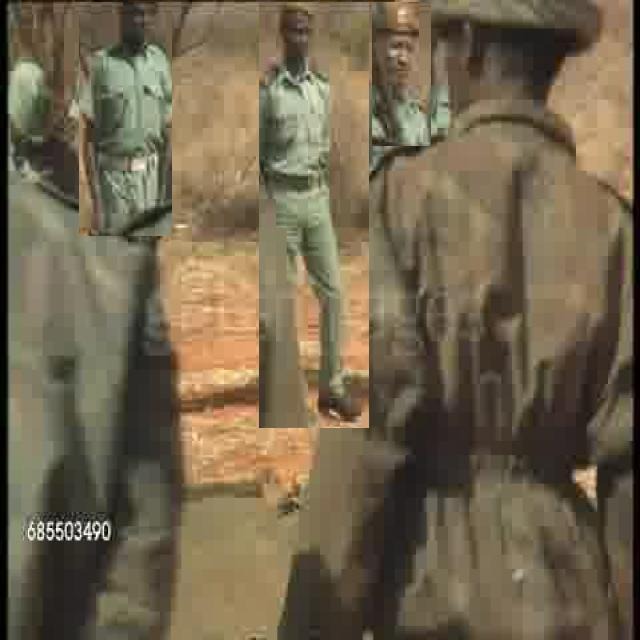poacher: (318, 2, 640, 594), (259, 2, 369, 428), (79, 2, 172, 236), (372, 2, 431, 146)
